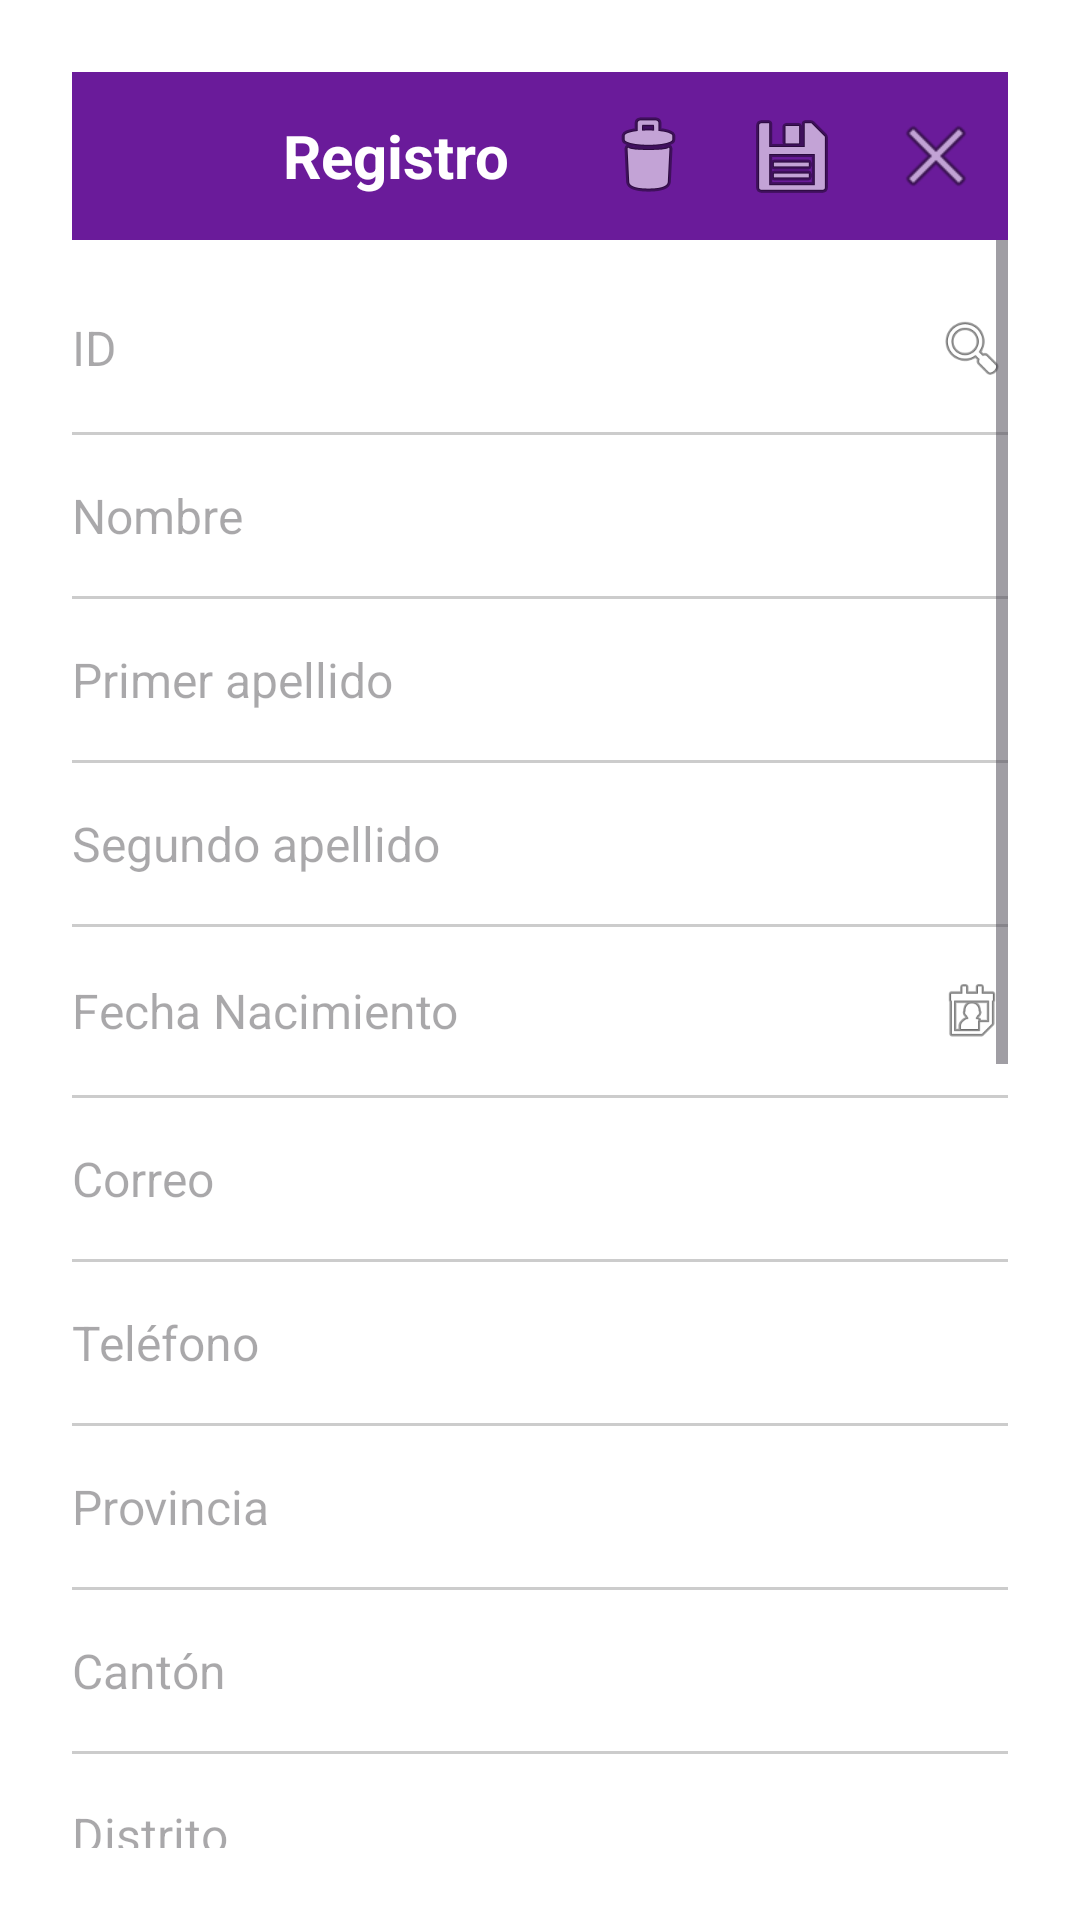

Where icons sit on this 1080*1920 app screen, as (x1, y1, x2, y2):
calendar: (949, 984, 995, 1037)
close clear cancel: (906, 126, 966, 186)
delete: (622, 117, 675, 192)
save: (756, 120, 828, 193)
search: (945, 312, 1008, 384)
